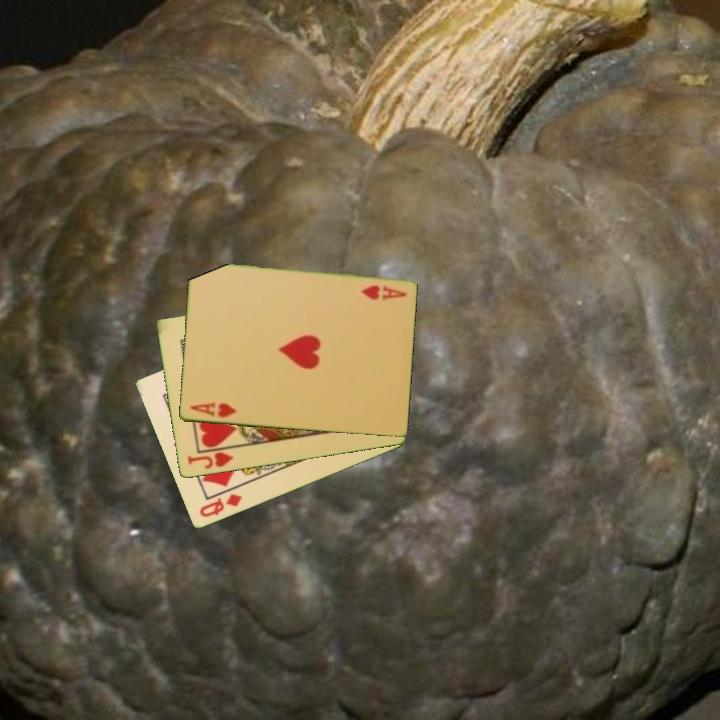Ah: (186, 398, 239, 421), (357, 282, 410, 301)
Jh: (184, 444, 238, 472)
Qd: (195, 490, 245, 520)
